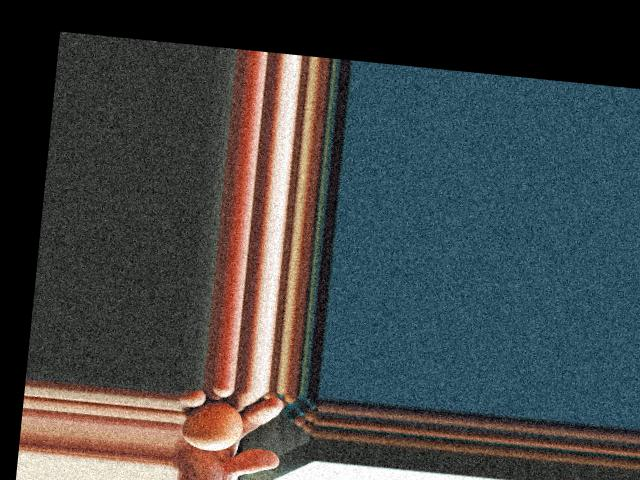egg: (178, 397, 245, 452)
